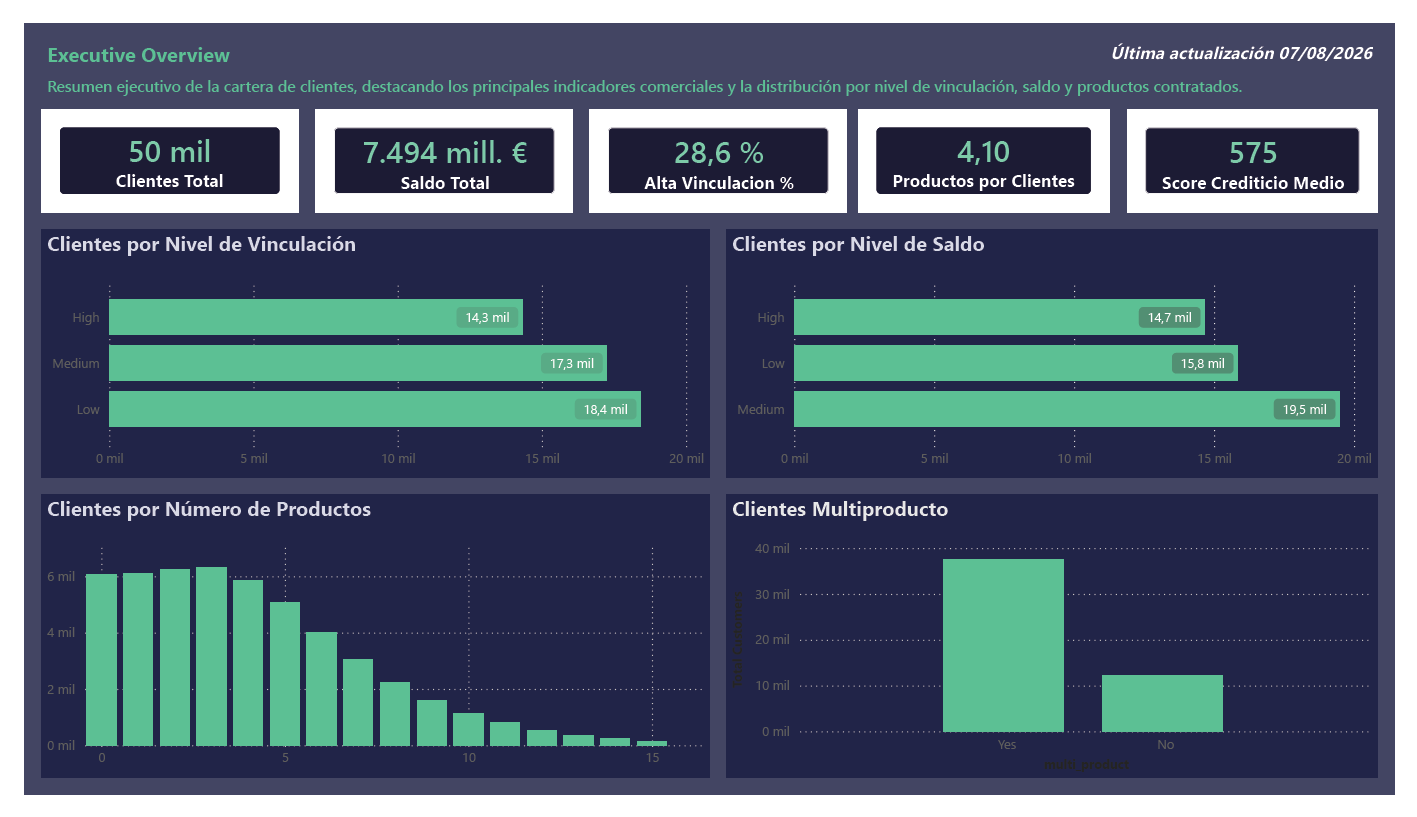

Layout of this report page (visuals, bound fields, positions):
{"tool":"powerbi","page":{"name":"Executive Overview","canvas":[1280,720],"ordinal":0},"visuals":[{"type":"barChart","title":"Clientes por Nivel de Vinculación","fields":{"Y":["Measure.Total Customers"],"Category":["Customers.engagement_level"]},"box":[16,192,624,232],"z":0},{"type":"cardVisual","fields":{"Data":["Measure.Total Balance"]},"box":[272,80,240,96],"z":1000},{"type":"clusteredColumnChart","title":"Clientes Multiproducto","fields":{"Category":["Customers.multi_product"],"Y":["Measure.Total Customers"]},"box":[656,440,608,264],"z":1000,"group":"g1"},{"type":"barChart","title":"Clientes por Nivel de Saldo","fields":{"Y":["Measure.Total Customers"],"Category":["Customers.balance_level"]},"box":[656,192,608,232],"z":2000},{"type":"columnChart","title":"Clientes por Número de Productos","fields":{"Category":["Customers.total_products"],"Y":["Measure.Total Customers"]},"box":[16,440,624,264],"z":3000},{"type":"cardVisual","fields":{"Data":["Measure.Total Customers"]},"box":[16,80,240,96],"z":4000},{"type":"cardVisual","fields":{"Data":["Measure.High Engagement Customers %"]},"box":[528,80,240,96],"z":5000},{"type":"cardVisual","fields":{"Data":["Measure.Average Products per Customer"]},"box":[779.2,80,234.3,96],"z":6000},{"type":"textbox","title":"Executive Overview ","box":[16,16,1248,24],"z":7000},{"type":"cardVisual","fields":{"Data":["Measure.Average Credit Score"]},"box":[1029.7,80,234.3,96],"z":8000},{"type":"textbox","title":"Resumen ejecutivo de la cartera de clientes, destacando los principales indicadores comerciales y la distribución por nivel de vinculación, saldo y productos contratados.","box":[16,48,1248,24],"z":9000},{"type":"group","id":"g1","title":"Grupo 3","box":[656,440,608,264],"z":10000},{"type":"textbox","title":"Fecha de análisis 07/08/2026","box":[872,16,392,24],"z":11000}]}

Visuals, with their boxes in screenshot pixels (x1, y1, x2, y2), scaled from the page's 1280x720 canvas onto the 1417x817 screenshot:
"Clientes por Nivel de Vinculación" barChart: 18:218:708:481
cardVisual - Measure.Total Balance: 301:91:567:200
"Clientes Multiproducto" clusteredColumnChart: 726:499:1399:799
"Clientes por Nivel de Saldo" barChart: 726:218:1399:481
"Clientes por Número de Productos" columnChart: 18:499:708:799
cardVisual - Measure.Total Customers: 18:91:283:200
cardVisual - Measure.High Engagement Customers %: 585:91:850:200
cardVisual - Measure.Average Products per Customer: 863:91:1122:200
"Executive Overview " textbox: 18:18:1399:45
cardVisual - Measure.Average Credit Score: 1140:91:1399:200
"Resumen ejecutivo de la cartera de clientes, destacando los principales indicadores comerciales y la distribución por nivel de vinculación, saldo y productos contratados." textbox: 18:54:1399:82
"Grupo 3" group: 726:499:1399:799
"Fecha de análisis 07/08/2026" textbox: 965:18:1399:45
